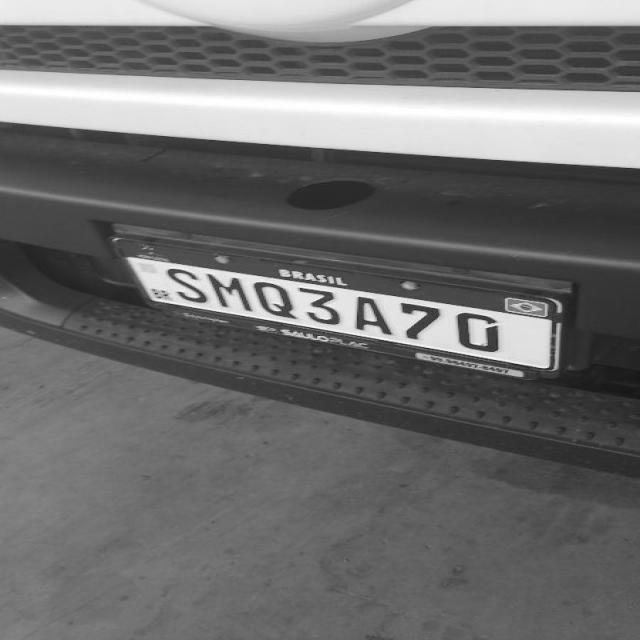placa_mercosul: (117, 233, 571, 381)
